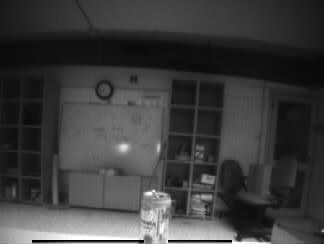Tin can: (141, 189, 169, 244)
